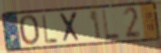1: (89, 9, 102, 42)
2: (122, 6, 143, 41)
L: (101, 9, 122, 42), (41, 14, 59, 45)
O: (17, 14, 41, 47)
X: (58, 10, 82, 44)
